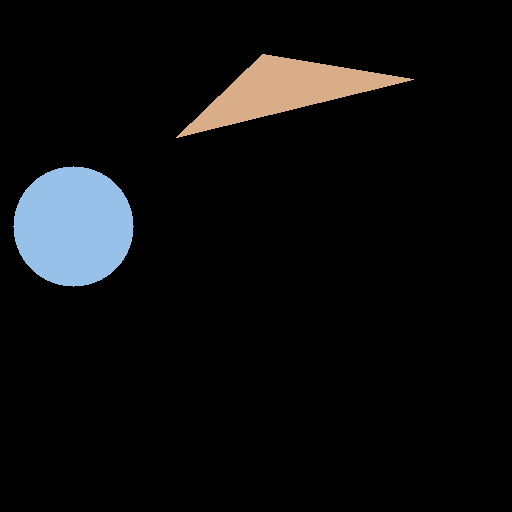circle: (13, 166, 133, 286)
triangle: (176, 54, 413, 137)
